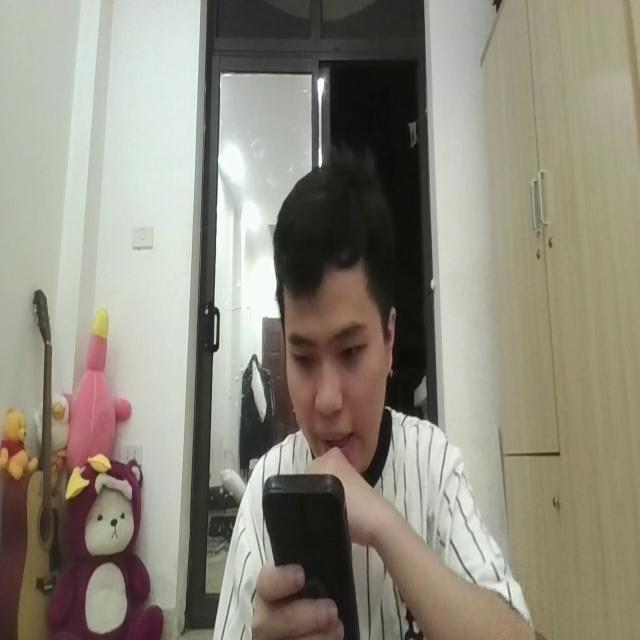phone: (261, 465, 361, 638)
student: (207, 148, 533, 640)
